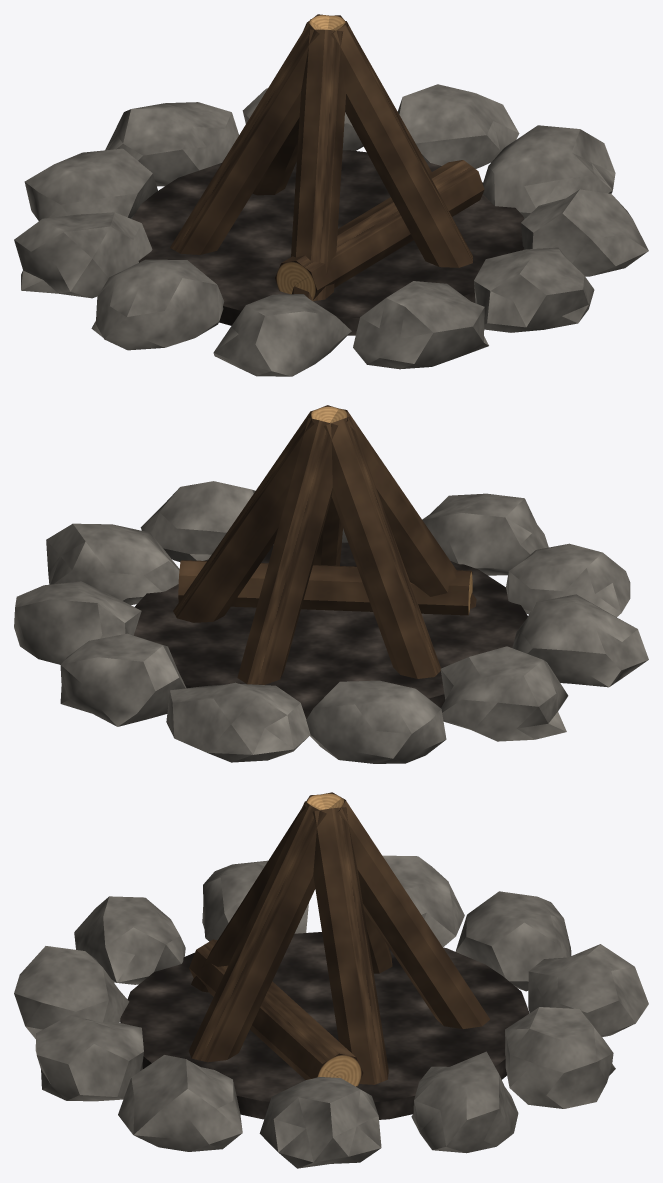
The model's file is Campfire.gltf.
The picture shows the model from 3 angles, top to bottom: view 1: azimuth 30°, elevation 25°; view 2: azimuth 150°, elevation 25°; view 3: azimuth 270°, elevation 25°; orthographic projection. The views are drawn at different scales.
Parts seen in each view (by area): view 1: Campfire; view 2: Campfire; view 3: Campfire.
Boxes of the visible parts, x1,y1,x2,y2 form: Campfire: (14,14,648,376); Campfire: (14,405,648,763); Campfire: (14,792,648,1168).
Size of the model in its own units: 1.98 by 0.822 by 1.91.
Materials: 4 (4 with a texture image).
